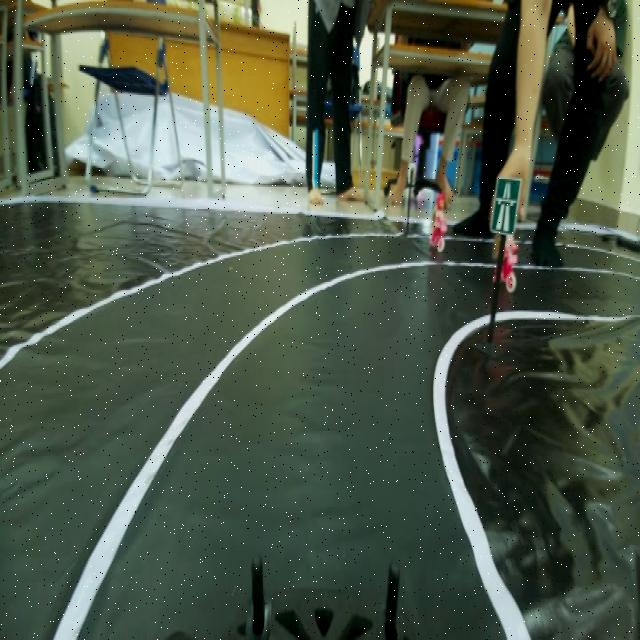highway_entry: (489, 178, 524, 240), (527, 192, 531, 195)
